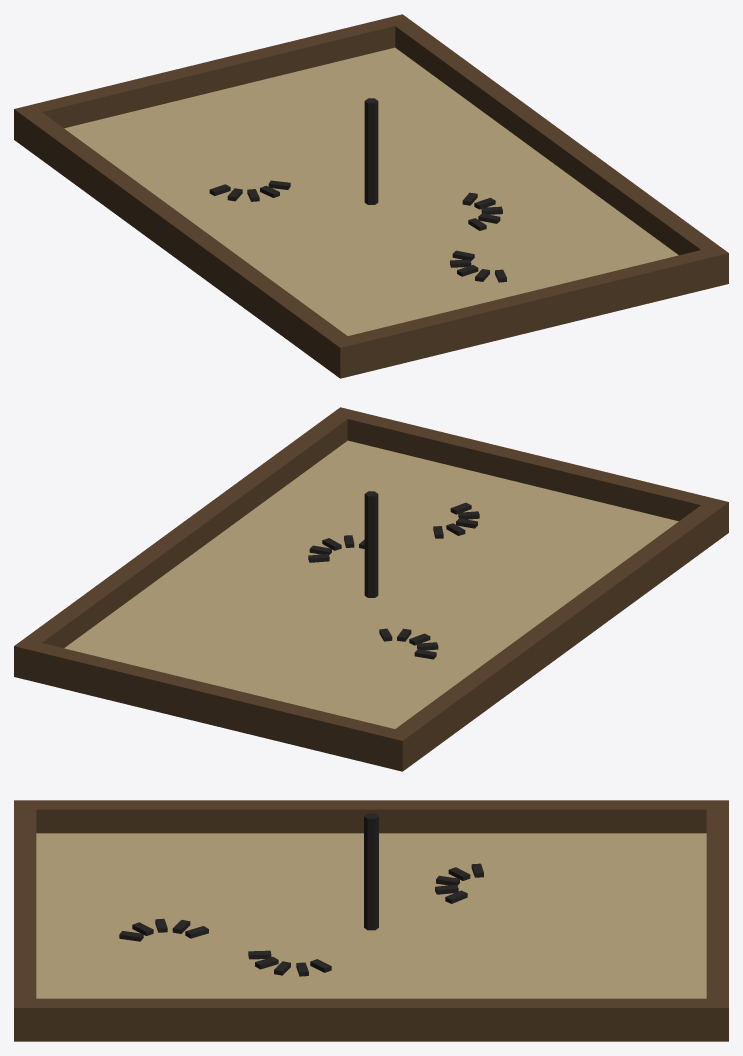
The model's file is HorseshoePit.glb.
The picture shows the model from 3 angles, top to bottom: view 1: azimuth 30°, elevation 25°; view 2: azimuth 150°, elevation 25°; view 3: azimuth 270°, elevation 25°; orthographic projection. The views are drawn at different scales.
Visible parts, largest first — view 1: HorseshoePit; view 2: HorseshoePit; view 3: HorseshoePit.
Boxes of the visible parts, x1=… form: HorseshoePit: x1=14, y1=14, x2=728, y2=378; HorseshoePit: x1=14, y1=407, x2=728, y2=771; HorseshoePit: x1=14, y1=800, x2=728, y2=1041.
Bounding box in the file's own units: 1.32 × 0.36 × 1.92.
